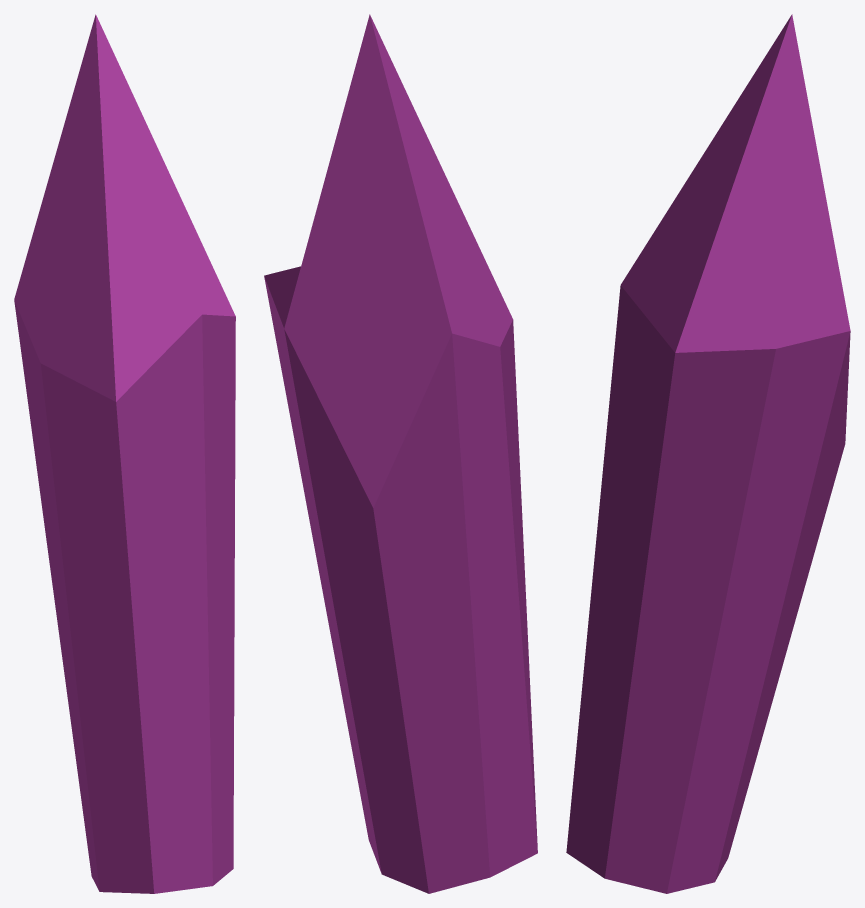
Rendered from SmallCrystal1.fbx.
3 views of the same model, side by side, from view 1: azimuth 30°, elevation 25°; view 2: azimuth 150°, elevation 25°; view 3: azimuth 270°, elevation 25° (orthographic). The views are drawn at different scales.
Visible parts, largest first — view 1: polySurface2; view 2: polySurface2; view 3: polySurface2.
Boxes of the visible parts, x1,y1,x2,y2 form: polySurface2: (14,14,235,893); polySurface2: (264,14,537,893); polySurface2: (566,14,850,893).
Size of the model in its own units: 0.4083 by 1.67 by 0.5029.
